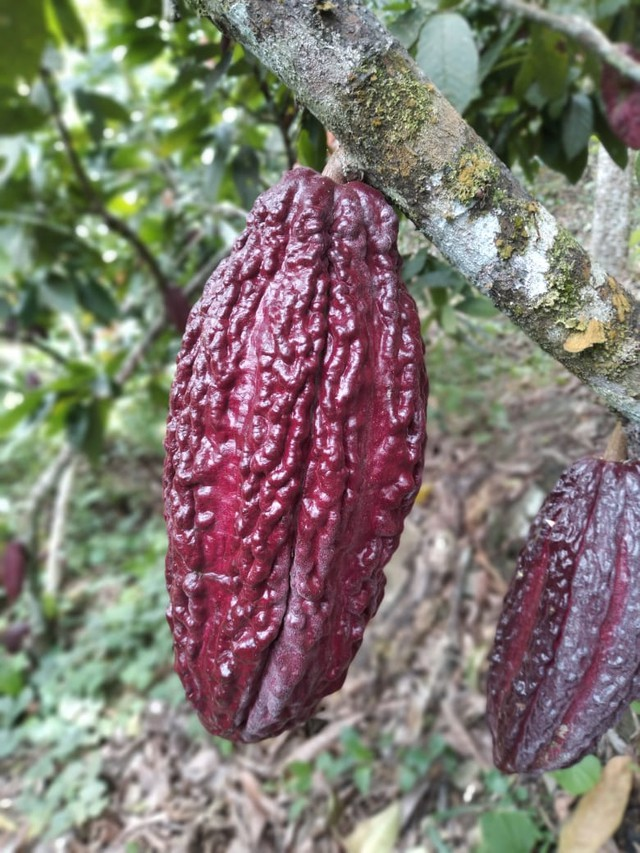Health: (156, 161, 433, 744)
